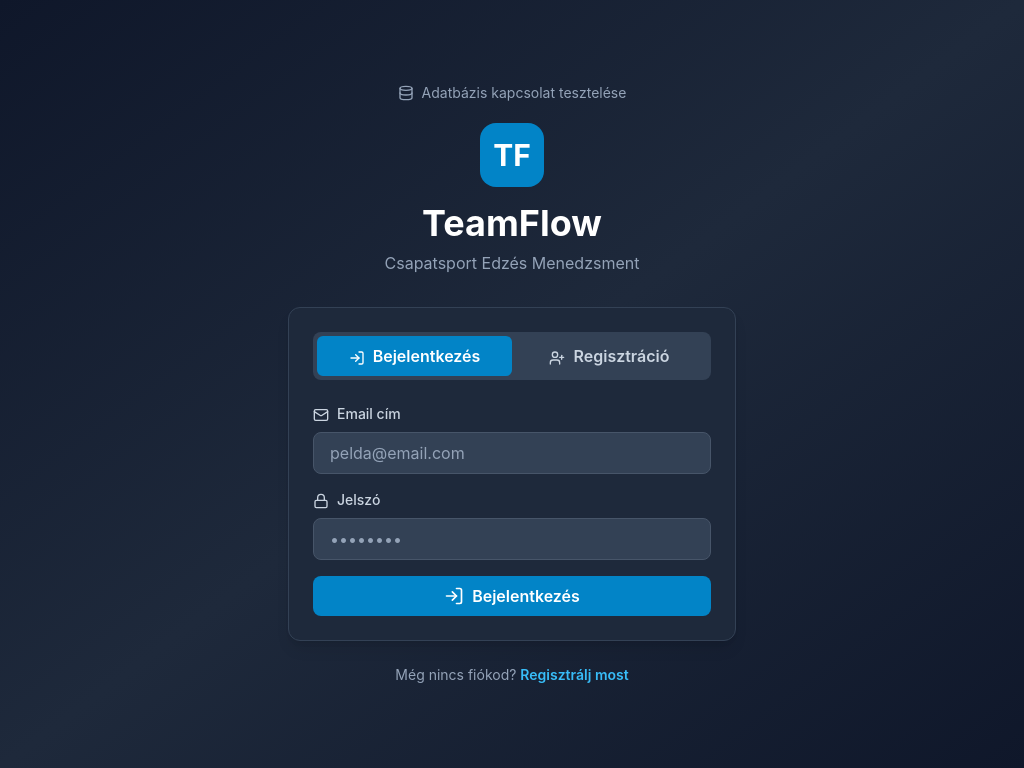
it: Auth form › shows the min-10-chars password hint after switching to the Regisztráció tab
Expected: the text "Minimum 10 karakter" is not shown
# The Regisztráció tab button (there are two matches: tab + footer link).
What coordinates should you click on to do the following:
click the button "Regisztráció"
I would click on:
 (610, 356)
Its box is [512,336,707,376].
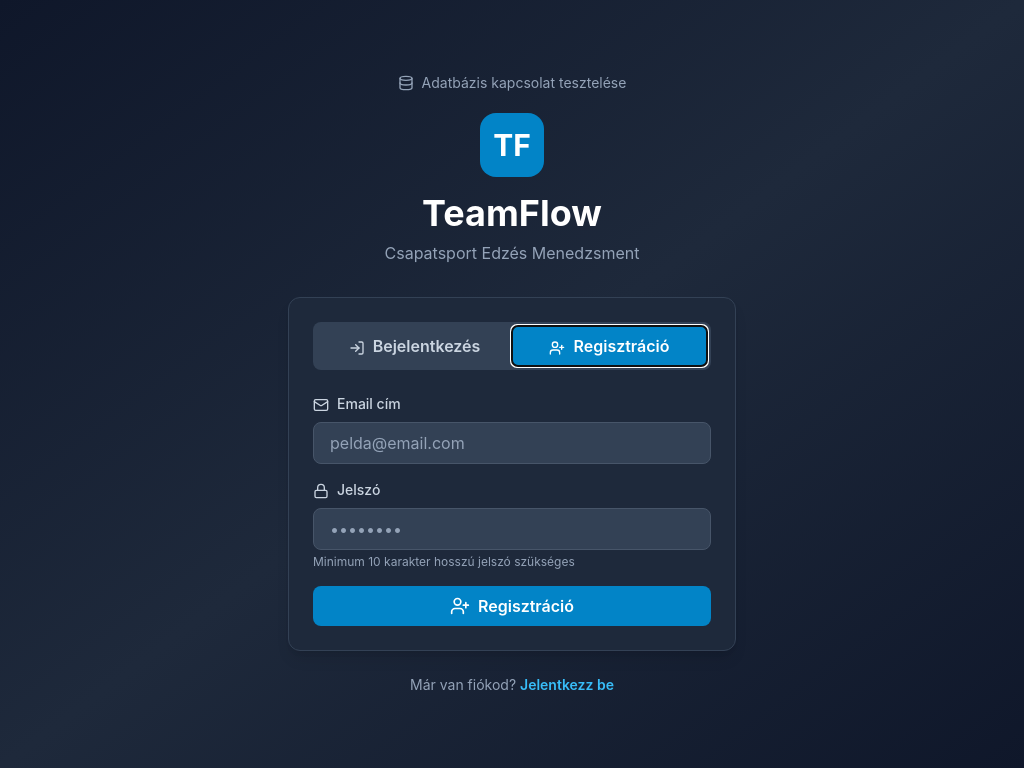
Result: the text "Minimum 10 karakter hosszú jelszó szükséges" is shown at [313,554,575,569]
